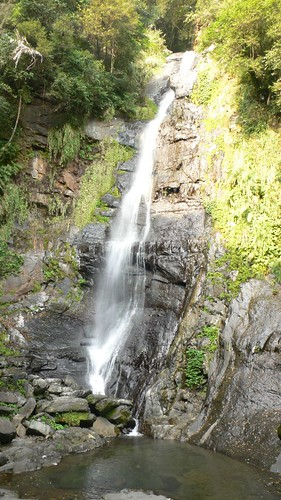wufengciWaterfall: (62, 34, 233, 438)
